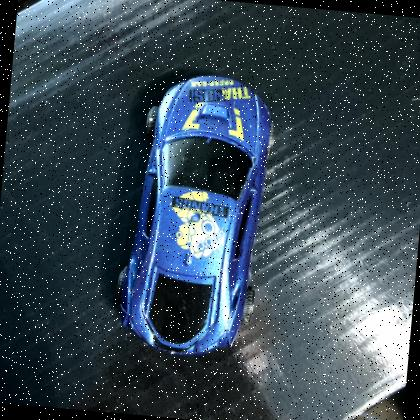Car: (104, 56, 286, 368)
